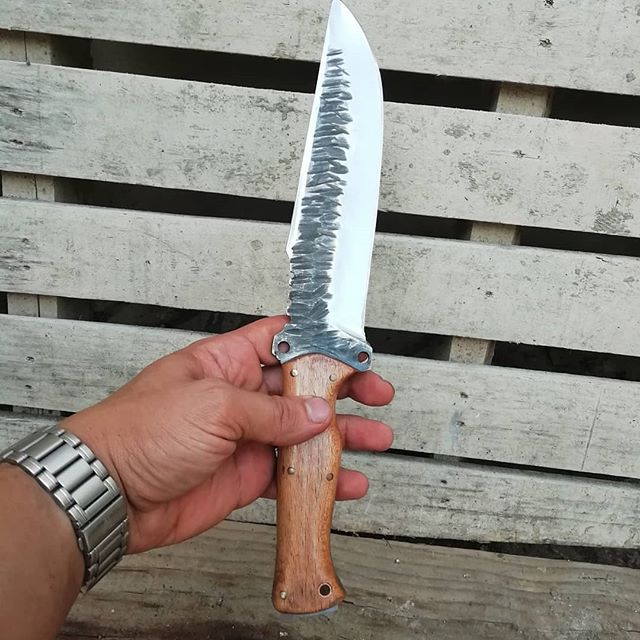knife: (271, 1, 385, 613)
